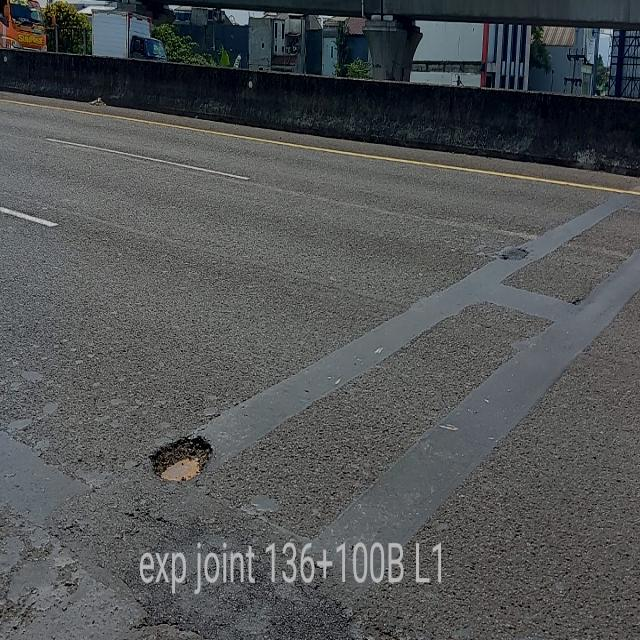Buraco: (145, 433, 219, 487)
